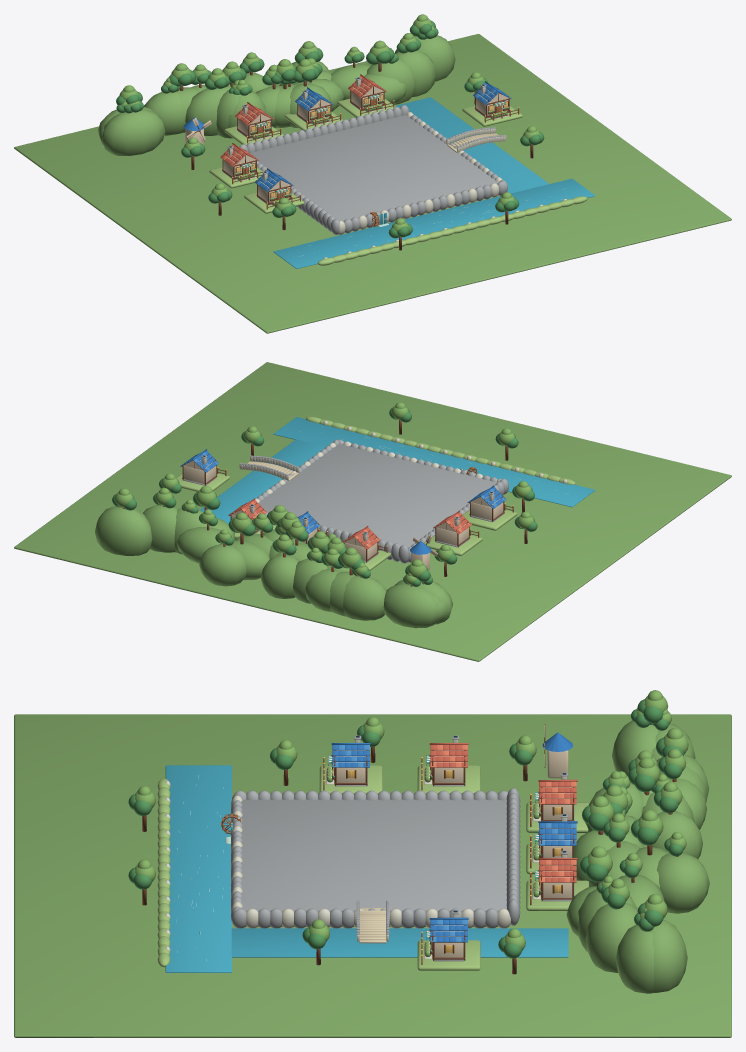
Rendered from village_valley.glb.
3 renders of one model, top to bottom at view 1: azimuth 30°, elevation 25°; view 2: azimuth 150°, elevation 25°; view 3: azimuth 270°, elevation 25°, orthographic. The views are drawn at different scales.
Visible parts, largest first — view 1: village_valley_mesh; view 2: village_valley_mesh; view 3: village_valley_mesh.
Boxes of the visible parts, x1,y1,x2,y2 form: village_valley_mesh: (14, 14, 731, 333); village_valley_mesh: (14, 362, 731, 661); village_valley_mesh: (14, 690, 731, 1037).
Size of the model in its own units: 70 by 10.8 by 66.
